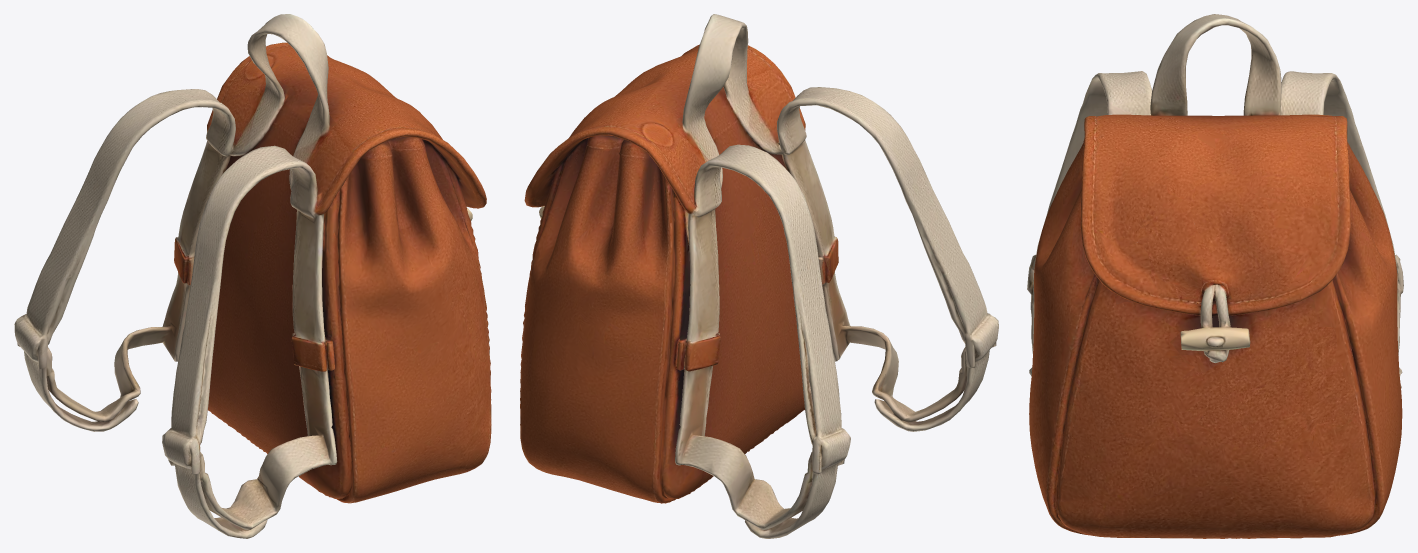
Rendered from backpack.glb.
3 renders of one model, left to right at view 1: azimuth 30°, elevation 25°; view 2: azimuth 150°, elevation 25°; view 3: azimuth 270°, elevation 25°, orthographic. The views are drawn at different scales.
Parts seen in each view (by area): view 1: tripo_node_423cc5ac-9ee7-45ff-91fc-fa1a299b6458; view 2: tripo_node_423cc5ac-9ee7-45ff-91fc-fa1a299b6458; view 3: tripo_node_423cc5ac-9ee7-45ff-91fc-fa1a299b6458.
Part boxes in pixels (bbox=[...]): tripo_node_423cc5ac-9ee7-45ff-91fc-fa1a299b6458: bbox=[14, 14, 491, 538]; tripo_node_423cc5ac-9ee7-45ff-91fc-fa1a299b6458: bbox=[520, 14, 998, 538]; tripo_node_423cc5ac-9ee7-45ff-91fc-fa1a299b6458: bbox=[1027, 14, 1403, 538].
Size of the model in its own units: 0.8743 by 1 by 0.7324.
1 material, 1 textured.
